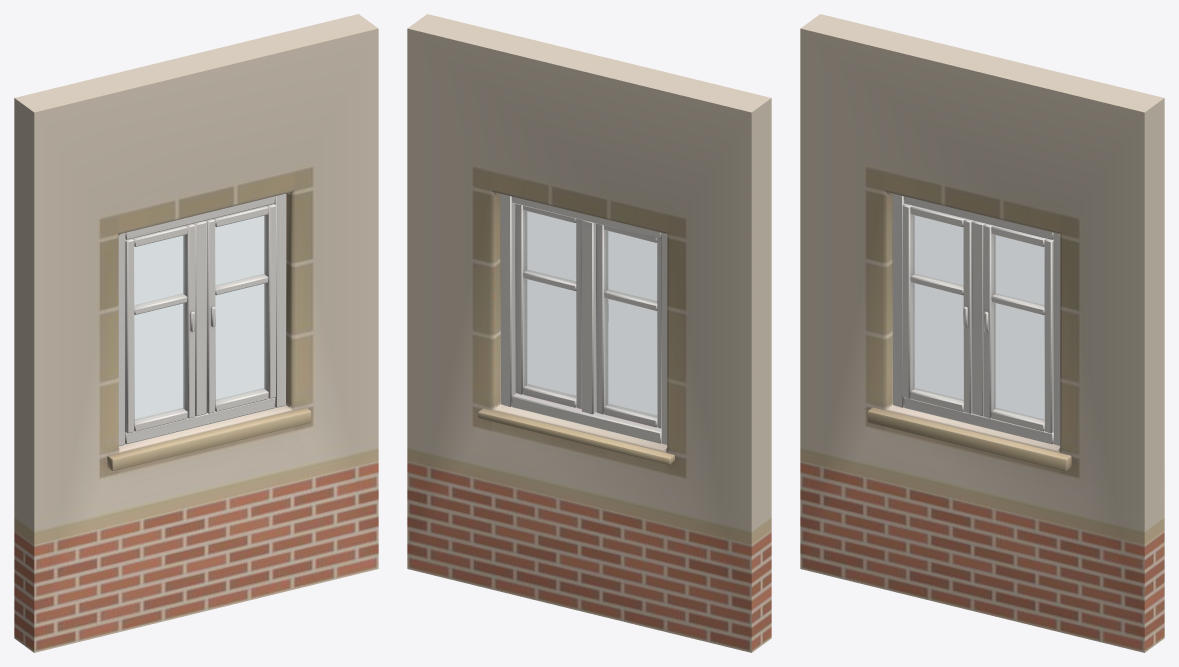
File: modular-wall-window.glb
The picture shows the model from 3 angles, left to right: view 1: azimuth 30°, elevation 25°; view 2: azimuth 150°, elevation 25°; view 3: azimuth 330°, elevation 25°; orthographic projection.
Visible parts, largest first — view 1: modular-wall-window_body, modular-wall-window_glazing, modular-wall-window_pane; view 2: modular-wall-window_body, modular-wall-window_glazing, modular-wall-window_pane; view 3: modular-wall-window_body, modular-wall-window_glazing, modular-wall-window_pane.
Part boxes in pixels (left/top/right/bottom): modular-wall-window_body: left=14, top=14, right=378, bottom=652; modular-wall-window_glazing: left=118, top=193, right=286, bottom=445; modular-wall-window_pane: left=134, top=215, right=265, bottom=420; modular-wall-window_body: left=407, top=14, right=771, bottom=652; modular-wall-window_glazing: left=500, top=194, right=667, bottom=445; modular-wall-window_pane: left=524, top=211, right=656, bottom=417; modular-wall-window_body: left=800, top=14, right=1164, bottom=652; modular-wall-window_glazing: left=892, top=193, right=1060, bottom=445; modular-wall-window_pane: left=913, top=215, right=1044, bottom=420.
Size of the model in its own units: 2 by 3 by 0.32.
Materials: 3 (2 with a texture image).
